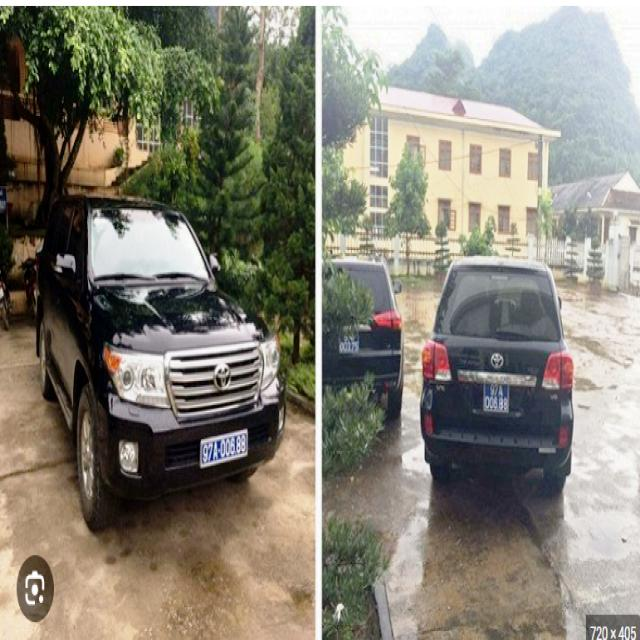license_plate: (201, 431, 249, 466), (484, 380, 511, 415)
